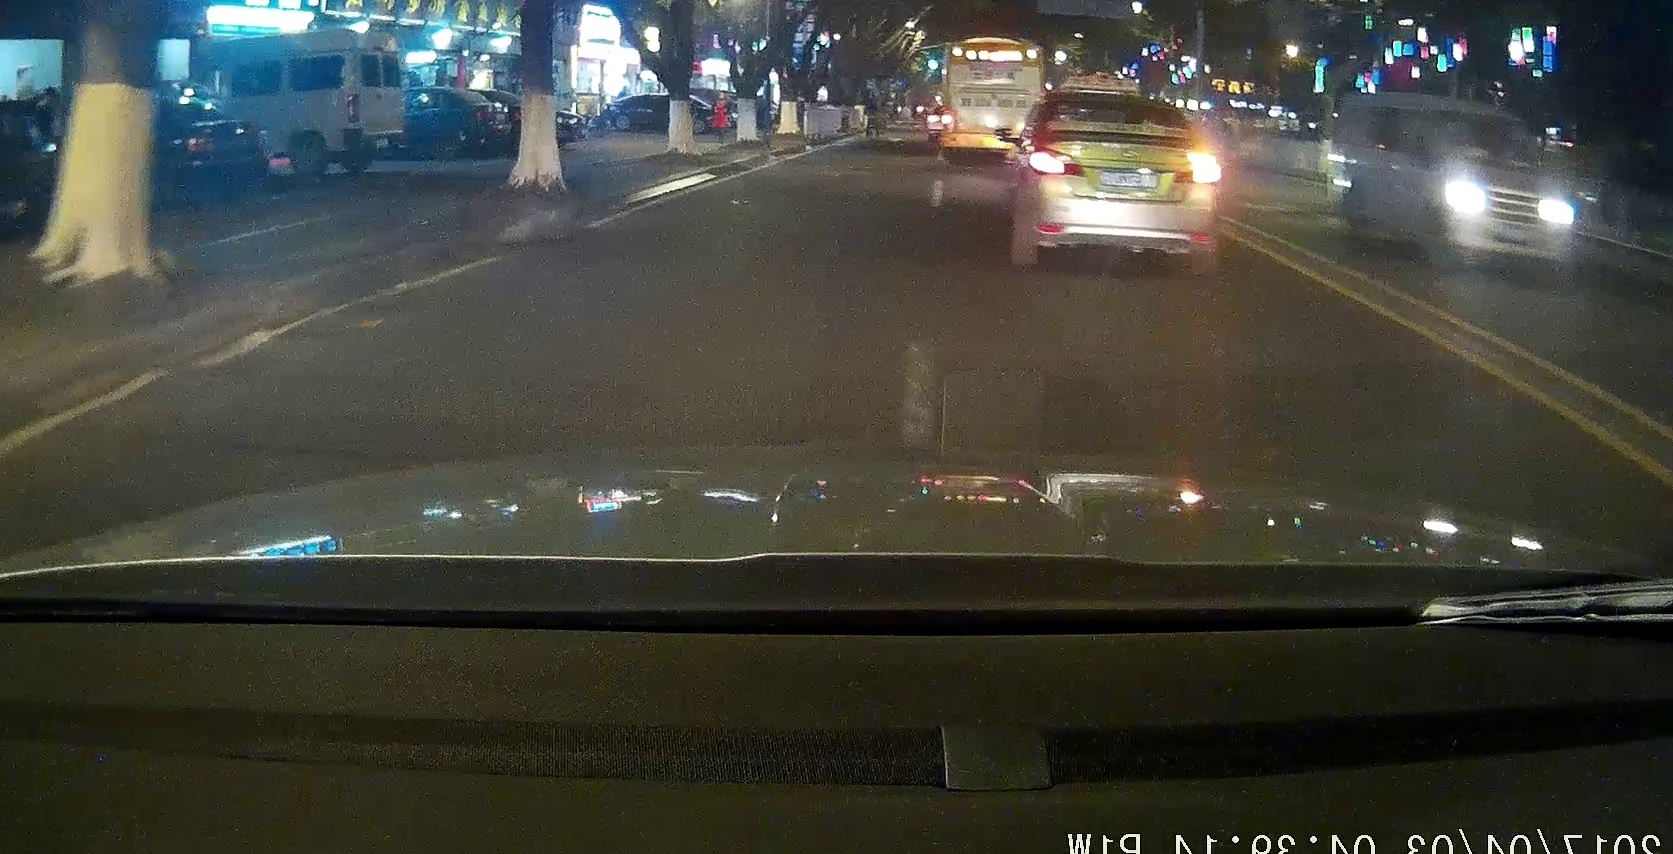L_light: (1029, 147, 1086, 176)
R_light: (1174, 152, 1221, 184)
T_light: (1106, 91, 1131, 99)
night-no: (1029, 88, 1222, 272)
